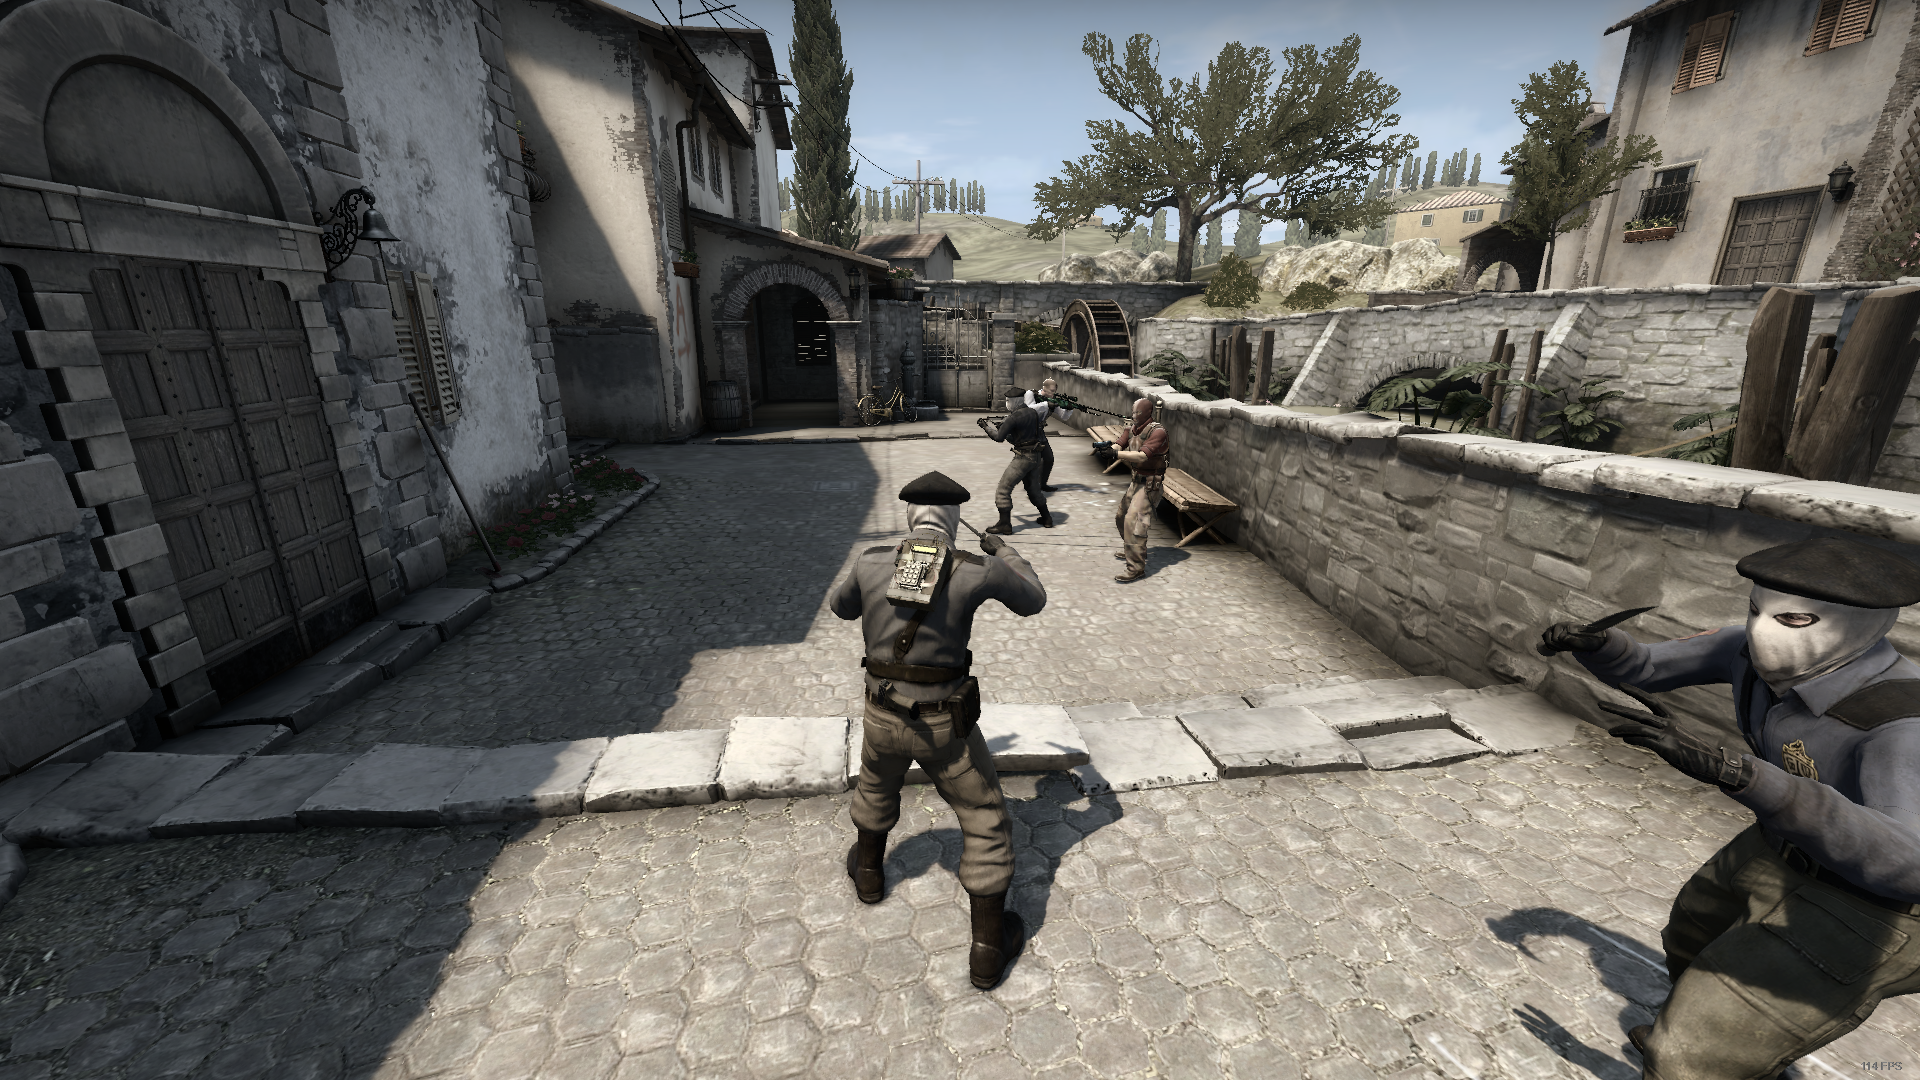t: (1530, 533, 1920, 1080), (828, 464, 1050, 1000)
